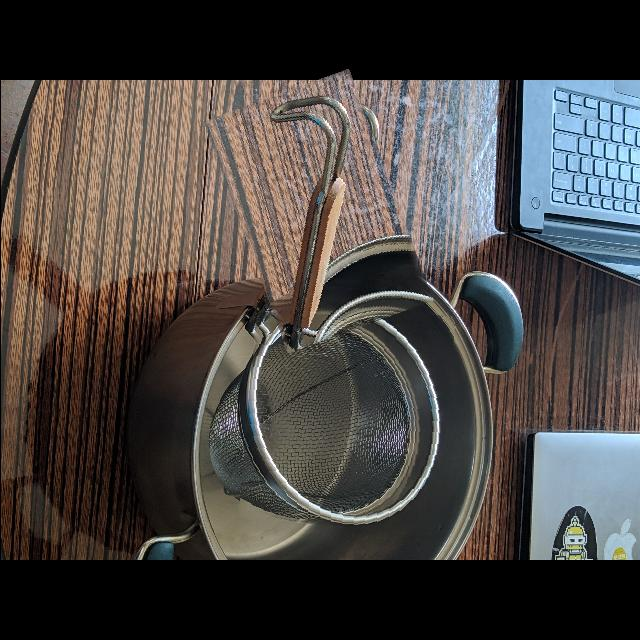Handle: (256, 85, 364, 353)
Strainer: (248, 305, 446, 528)
